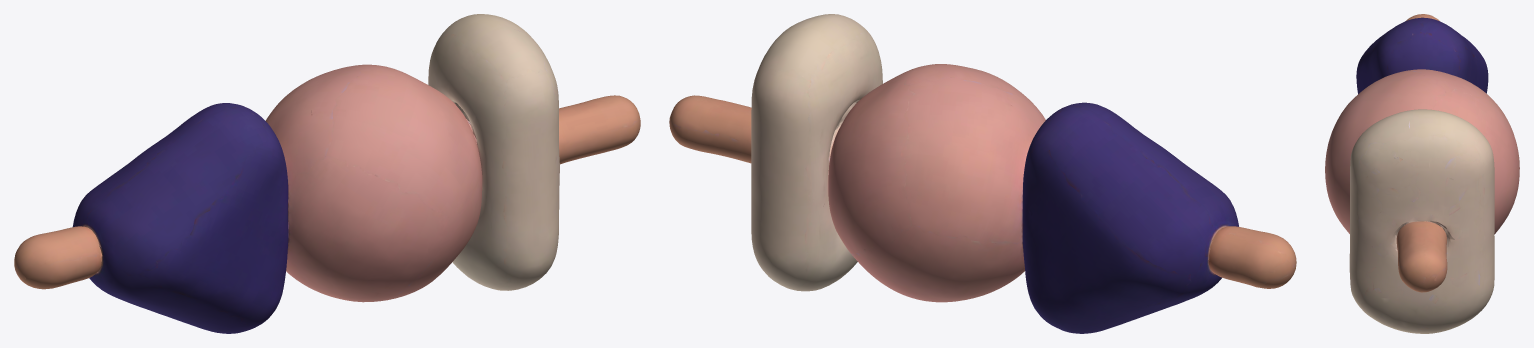
File: skewer.glb
3 renders of one model, left to right at view 1: azimuth 30°, elevation 25°; view 2: azimuth 150°, elevation 25°; view 3: azimuth 270°, elevation 25°, orthographic. The views are drawn at different scales.
Parts seen in each view (by area): view 1: Mesh; view 2: Mesh; view 3: Mesh.
Boxes of the visible parts, x1,y1,x2,y2 form: Mesh: (14, 14, 640, 333); Mesh: (669, 14, 1296, 333); Mesh: (1325, 14, 1519, 333).
Size of the model in its own units: 1 by 0.4029 by 0.3261.
Materials: 1 (1 with a texture image).
